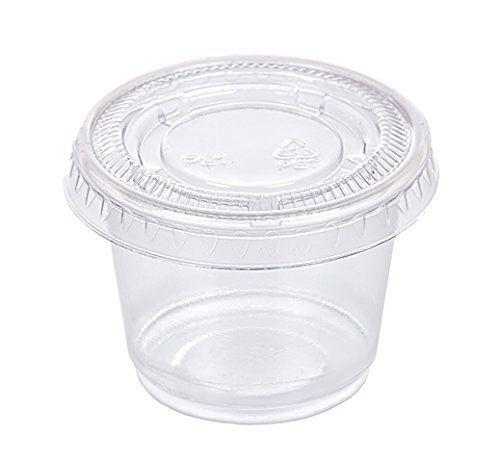PP: (63, 57, 438, 426)
